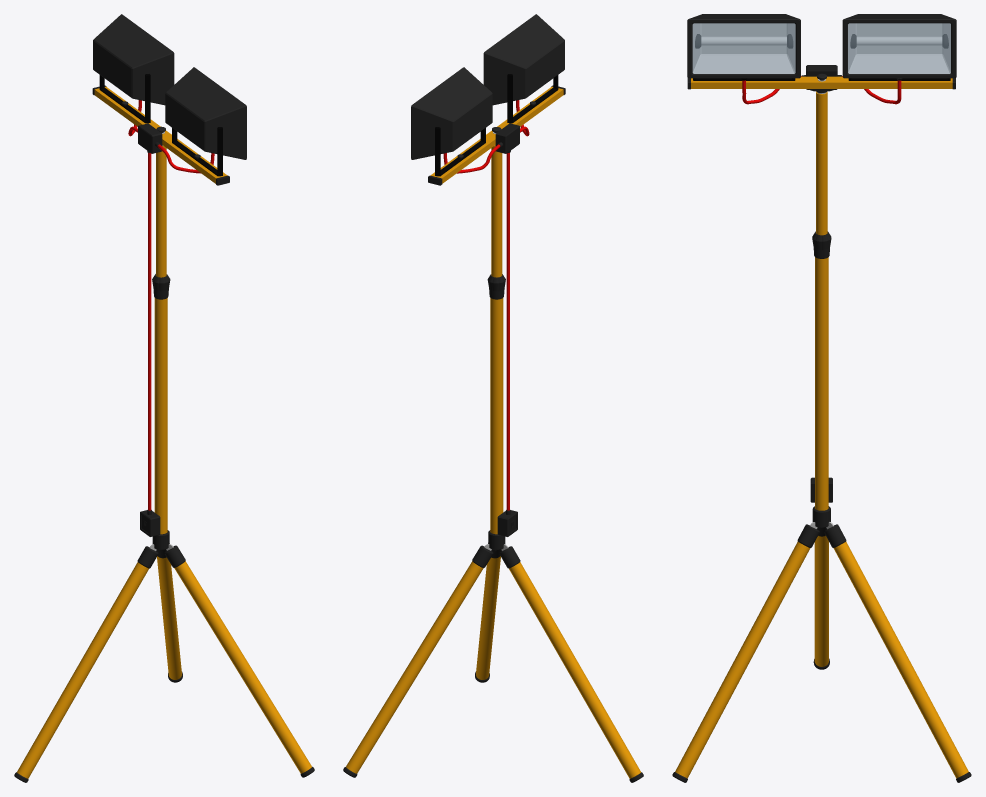
Rendered from Flood Light.fbx.
3 renders of one model, left to right at view 1: azimuth 30°, elevation 25°; view 2: azimuth 150°, elevation 25°; view 3: azimuth 270°, elevation 25°, orthographic. The views are drawn at different scales.
Parts seen in each view (by area): view 1: Flood Light; view 2: Flood Light; view 3: Flood Light.
Part boxes in pixels (left/top/right/bottom): Flood Light: left=14, top=14, right=314, bottom=782; Flood Light: left=343, top=14, right=643, bottom=782; Flood Light: left=672, top=14, right=971, bottom=782.
Bounding box in the file's own units: 198 × 556 × 206.
